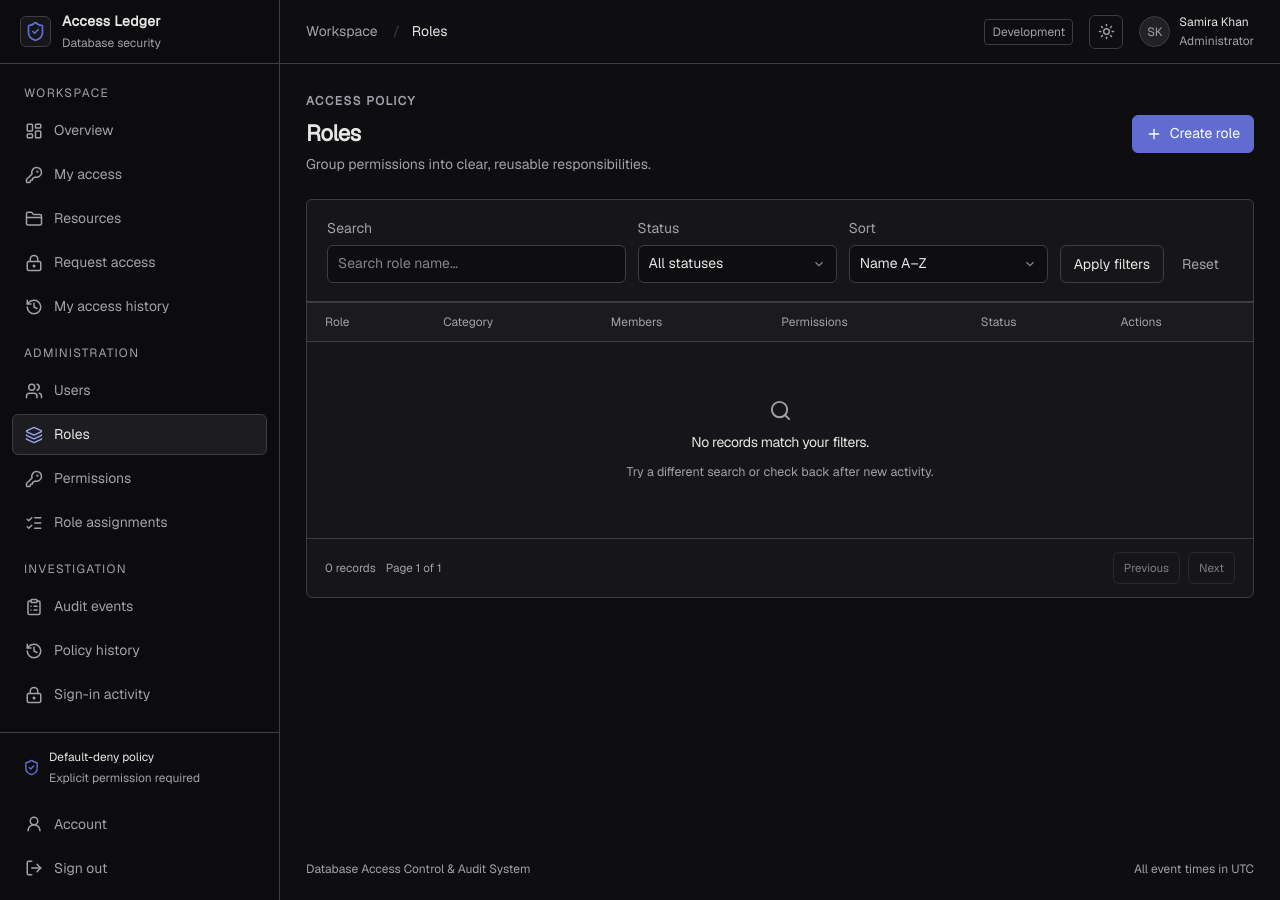
Test: workspace interactions › does not claim a role was created when the backend rejects it
Click the button "Create role".
click(1193, 134)  # box 1132,115 -> 1254,153
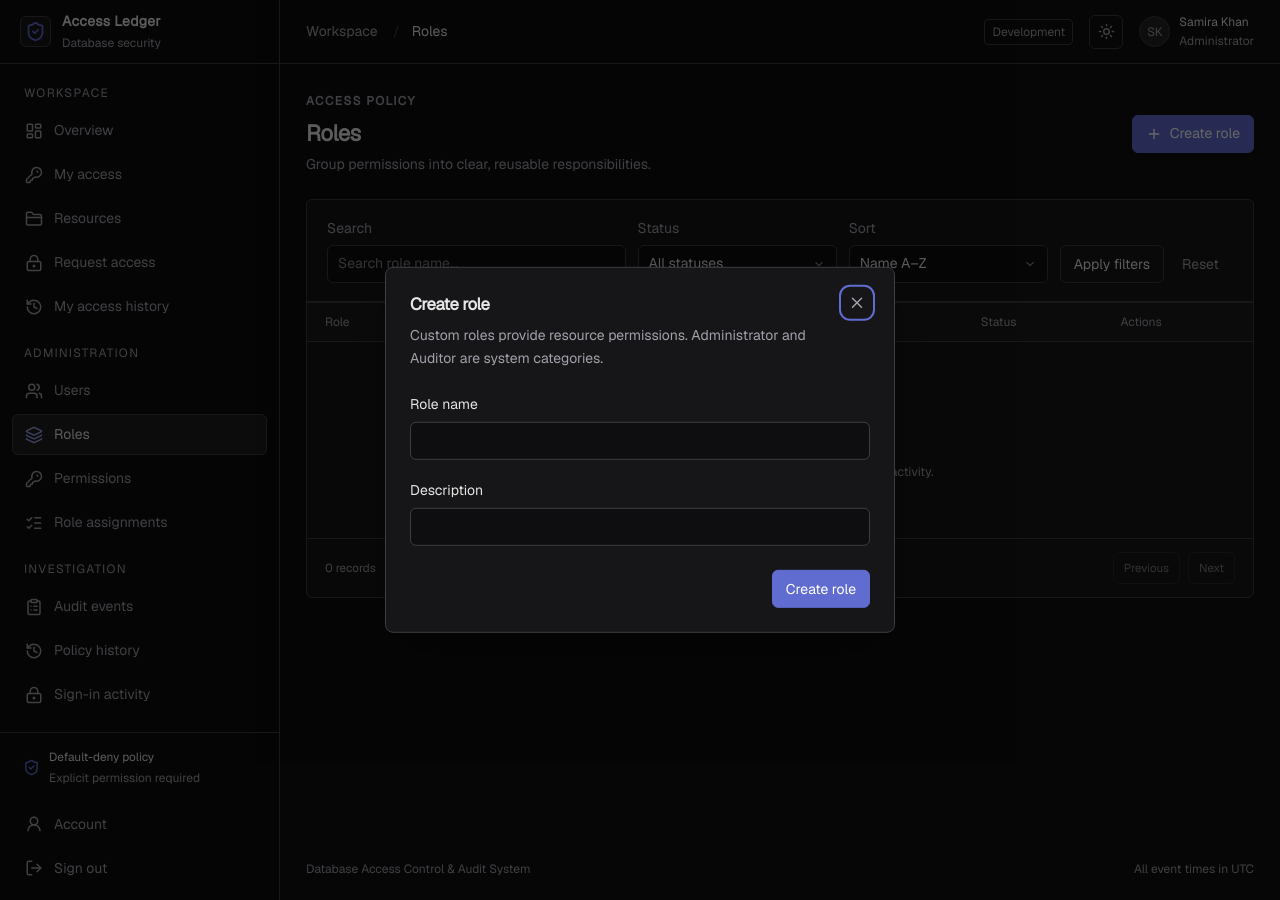
Type "Report Analyst" into the field labelled "Role name".
click(640, 441); type("Report Analyst")  # box 410,422 -> 870,460
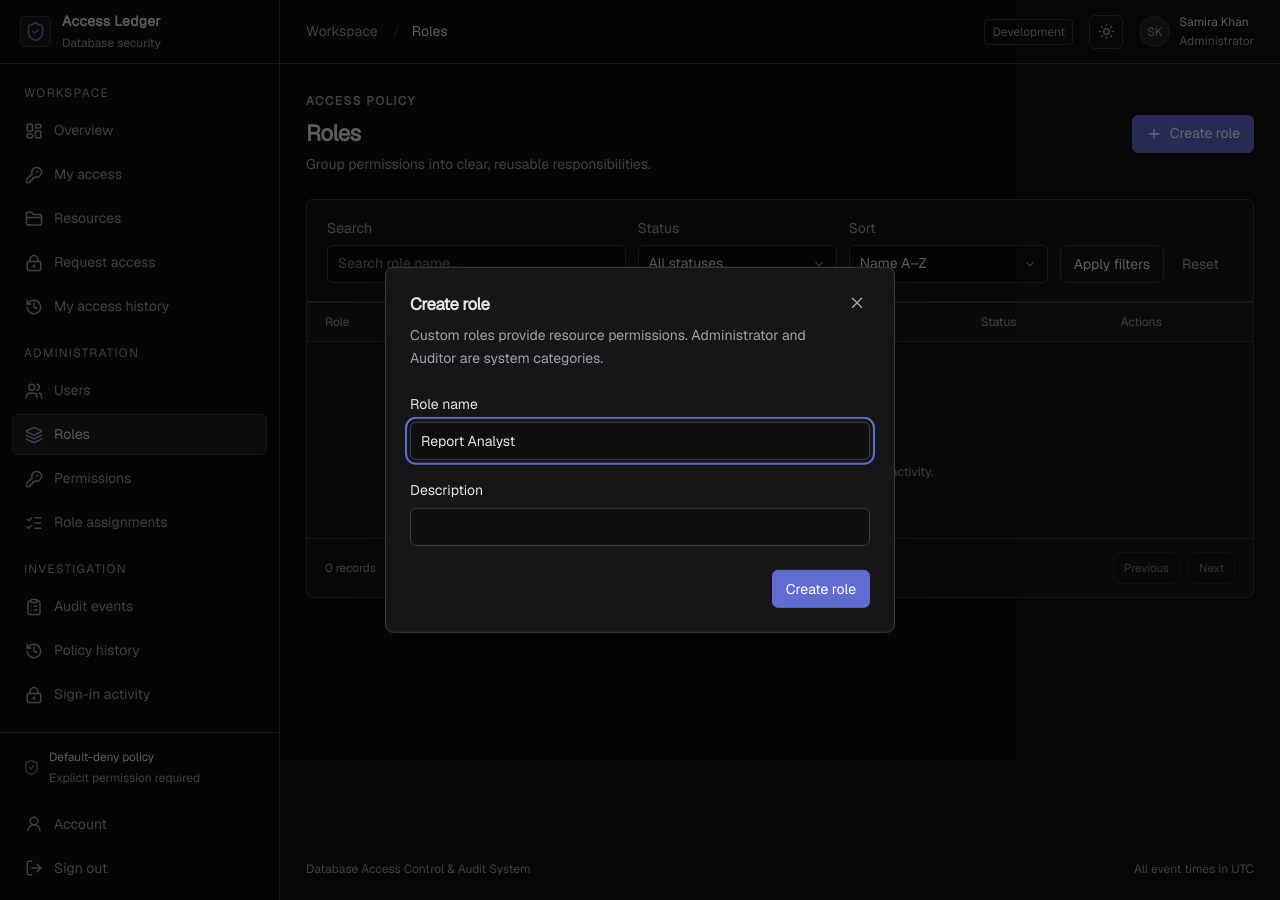
Click the button "Create role".
click(821, 589)  # box 772,570 -> 870,608
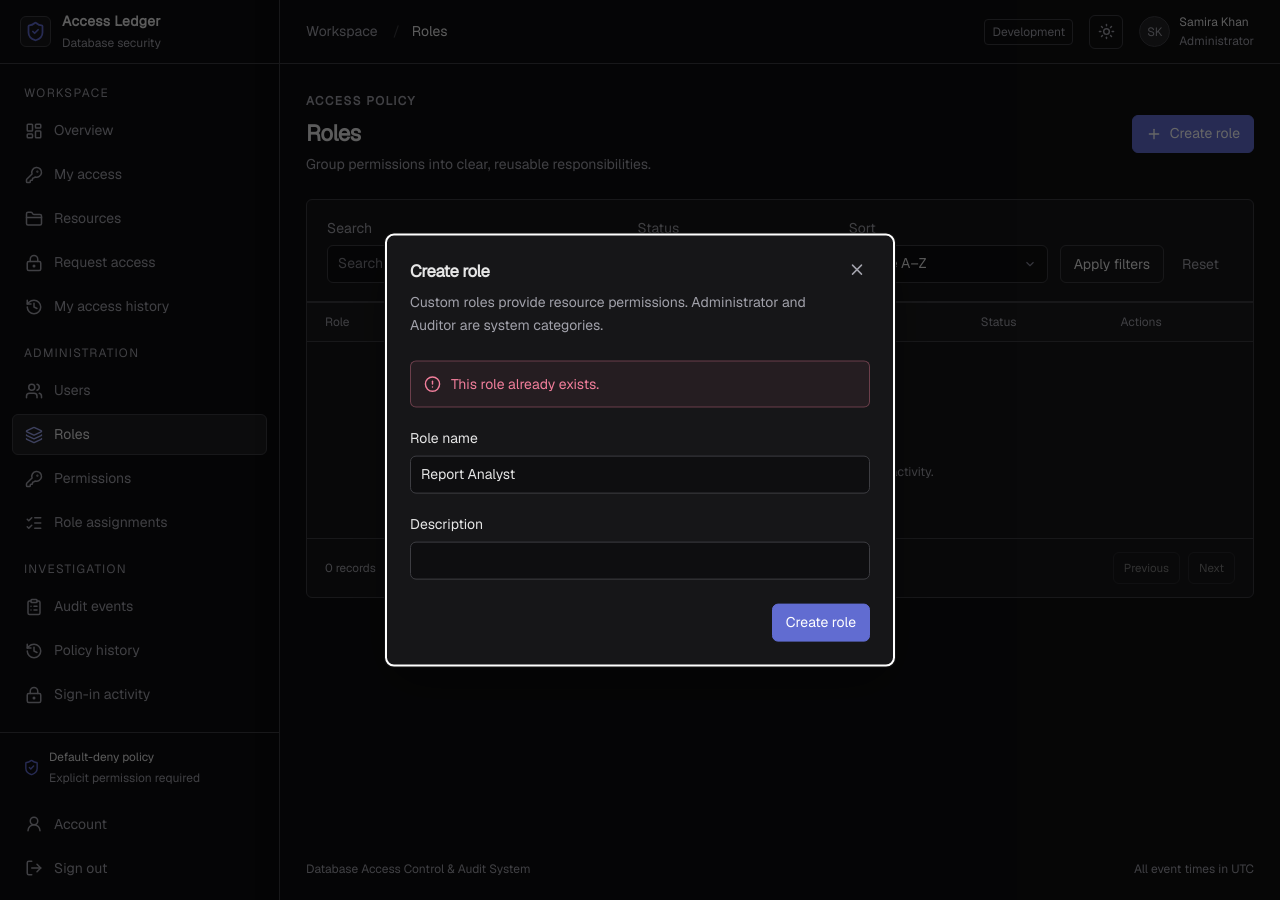
expect the message reads "This role already exists.": met, box 451,375 -> 599,393
